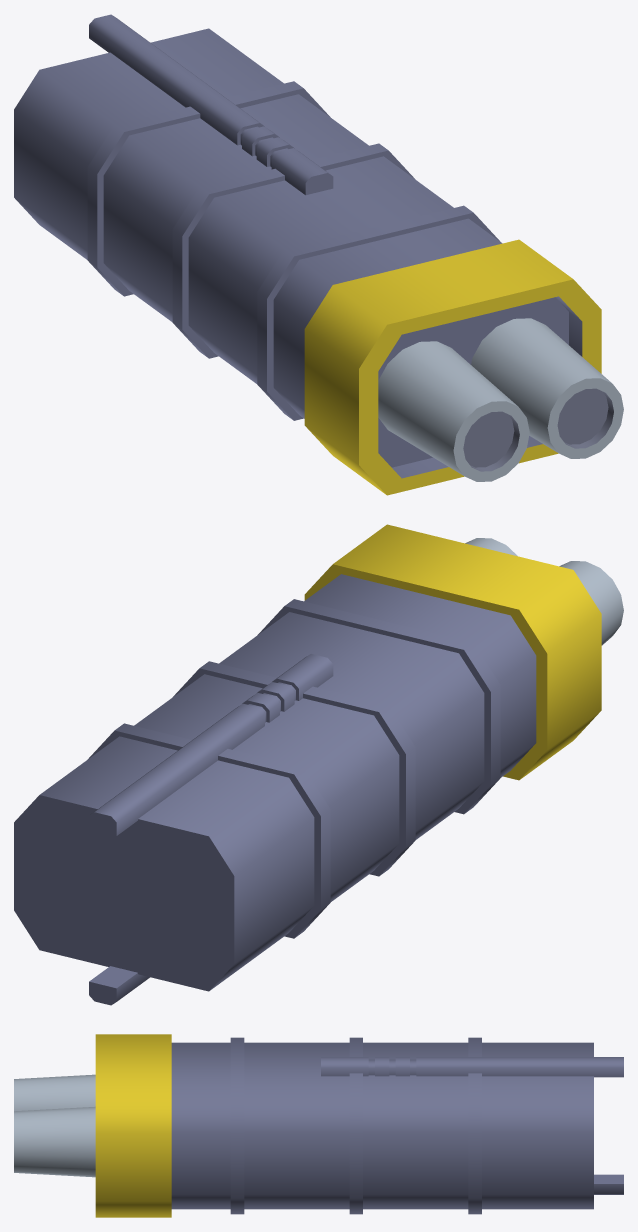
File: Dulo6.fbx
3 views of the same model, one above another, from view 1: azimuth 30°, elevation 25°; view 2: azimuth 150°, elevation 25°; view 3: azimuth 270°, elevation 25° (orthographic). The views are drawn at different scales.
Parts seen in each view (by area): view 1: Dulo3; view 2: Dulo3; view 3: Dulo3.
Boxes of the visible parts, x1=… form: Dulo3: x1=14, y1=14, x2=623, y2=495; Dulo3: x1=14, y1=524, x2=623, y2=1005; Dulo3: x1=14, y1=1034, x2=623, y2=1217.
Size of the model in its own units: 85.33 by 63.66 by 266.
